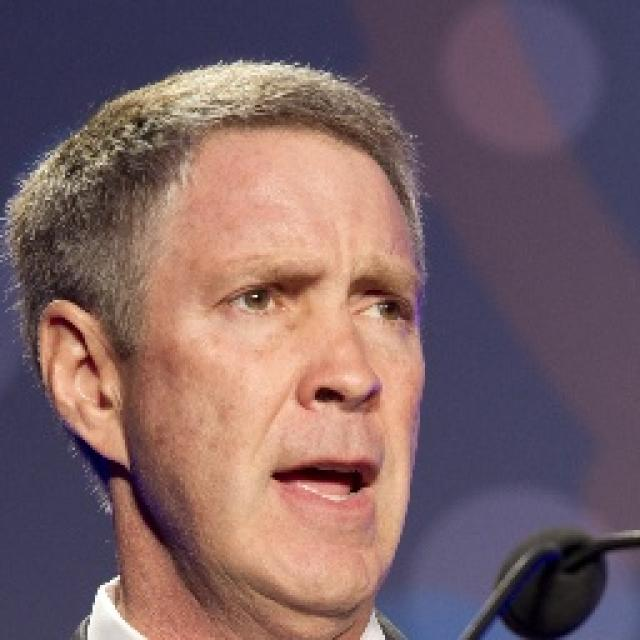earlobe: (80, 421, 127, 471)
eye: (220, 278, 292, 319), (356, 292, 415, 325)
nose: (308, 394, 388, 452)
wholeear: (34, 300, 128, 470)
